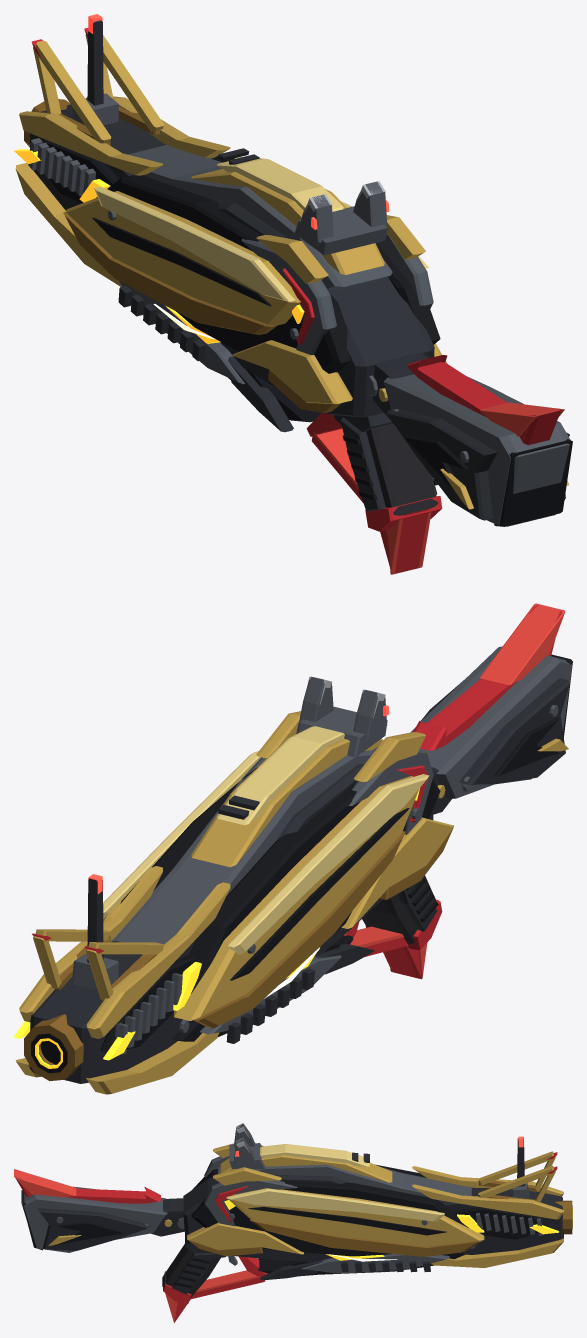
The model's file is Glorious_Blaze_Shotgun.glb.
3 views of the same model, one above another, from view 1: azimuth 30°, elevation 25°; view 2: azimuth 150°, elevation 25°; view 3: azimuth 270°, elevation 25° (orthographic). The views are drawn at different scales.
Visible parts, largest first — view 1: Receiver_main, Stock_core, Swept_gold_wing_L, Receiver_shadow_frame_L, Upper_tapered_spine, Upper_gold_highlight_L, Stock_dark_angular_panel_L, Lower_bronze_facet_L, Angled_grip, Rear_hanging_gold_blade_L, Stock_crimson_dorsal_spike, Front_gold_upper_sweep_L (+31 smaller); view 2: Swept_gold_wing_L, Upper_tapered_spine, Receiver_shadow_frame_L, Stock_core, Upper_gold_highlight_L, Front_skeletal_chassis, Stock_dark_angular_panel_L, Lower_bronze_facet_L, Front_gold_upper_sweep_L, Crown_gold_spine, Crown_polished_cap, Stock_spike_scarlet_edge (+30 smaller); view 3: Swept_gold_wing_R, Receiver_shadow_frame_R, Stock_core, Upper_gold_highlight_R, Lower_bronze_facet_R, Upper_tapered_spine, Stock_dark_angular_panel_R, Front_skeletal_chassis, Receiver_main, Rear_hanging_gold_blade_R, Front_gold_upper_sweep_R, Front_gold_lower_sweep_R (+30 smaller).
Boxes of the visible parts, x1=… form: Receiver_main: x1=218, y1=202, x2=434, y2=417; Stock_core: x1=383, y1=374, x2=570, y2=526; Swept_gold_wing_L: x1=66, y1=191, x2=300, y2=325; Receiver_shadow_frame_L: x1=96, y1=175, x2=350, y2=373; Upper_tapered_spine: x1=127, y1=144, x2=392, y2=290; Upper_gold_highlight_L: x1=94, y1=186, x2=295, y2=301; Stock_dark_angular_panel_L: x1=387, y1=408, x2=497, y2=520; Lower_bronze_facet_L: x1=63, y1=211, x2=277, y2=334; Angled_grip: x1=366, y1=423, x2=438, y2=515; Rear_hanging_gold_blade_L: x1=232, y1=340, x2=352, y2=403; Stock_crimson_dorsal_spike: x1=407, y1=355, x2=561, y2=445; Front_gold_upper_sweep_L: x1=19, y1=111, x2=162, y2=175; Swept_gold_wing_L: x1=174, y1=776, x2=419, y2=1020; Upper_tapered_spine: x1=111, y1=747, x2=377, y2=944; Receiver_shadow_frame_L: x1=189, y1=780, x2=440, y2=993; Stock_core: x1=410, y1=646, x2=572, y2=798; Upper_gold_highlight_L: x1=228, y1=774, x2=429, y2=954; Front_skeletal_chassis: x1=29, y1=939, x2=196, y2=1083; Stock_dark_angular_panel_L: x1=458, y1=678, x2=569, y2=784; Lower_bronze_facet_L: x1=193, y1=831, x2=405, y2=1028; Front_gold_upper_sweep_L: x1=86, y1=882, x2=230, y2=1038; Crown_gold_spine: x1=191, y1=736, x2=383, y2=867; Crown_polished_cap: x1=217, y1=726, x2=344, y2=825; Stock_spike_scarlet_edge: x1=480, y1=603, x2=564, y2=685; Swept_gold_wing_R: x1=228, y1=1188, x2=484, y2=1246; Receiver_shadow_frame_R: x1=192, y1=1180, x2=469, y2=1256; Stock_core: x1=21, y1=1186, x2=167, y2=1252; Upper_gold_highlight_R: x1=226, y1=1188, x2=444, y2=1221; Lower_bronze_facet_R: x1=250, y1=1219, x2=481, y2=1256; Upper_tapered_spine: x1=218, y1=1164, x2=472, y2=1201; Stock_dark_angular_panel_R: x1=38, y1=1208, x2=150, y2=1250; Front_skeletal_chassis: x1=439, y1=1187, x2=563, y2=1254; Receiver_main: x1=183, y1=1174, x2=349, y2=1262; Rear_hanging_gold_blade_R: x1=187, y1=1222, x2=303, y2=1254; Front_gold_upper_sweep_R: x1=412, y1=1184, x2=563, y2=1219; Front_gold_lower_sweep_R: x1=431, y1=1238, x2=563, y2=1267.
Bounding box in the file's own units: 0.222 × 0.4986 × 1.35.
